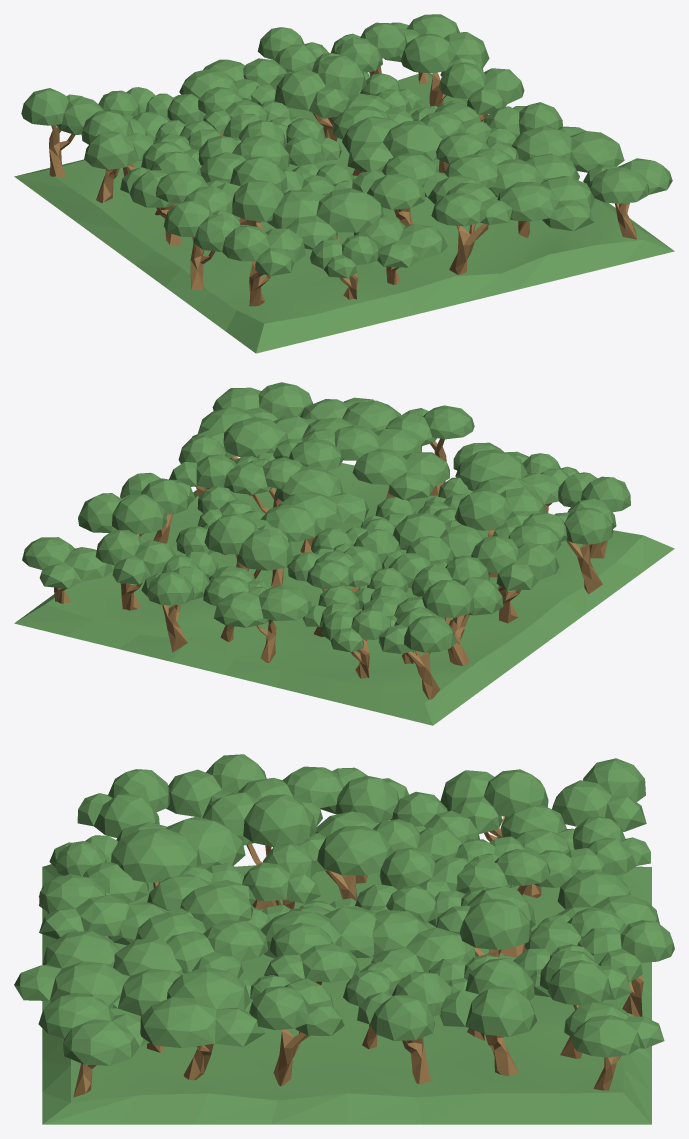
The model's file is trees16x16.FBX.
3 views of the same model, one above another, from view 1: azimuth 30°, elevation 25°; view 2: azimuth 150°, elevation 25°; view 3: azimuth 270°, elevation 25° (orthographic). The views are drawn at different scales.
Visible parts, largest first — view 1: Plane002; view 2: Plane002; view 3: Plane002.
Part boxes in pixels (x1,y1,x2,y2): Plane002: (14,14,674,353); Plane002: (14,382,674,725); Plane002: (14,754,674,1124).
Bounding box in the file's own units: 18.89 × 19.16 × 4.15.
